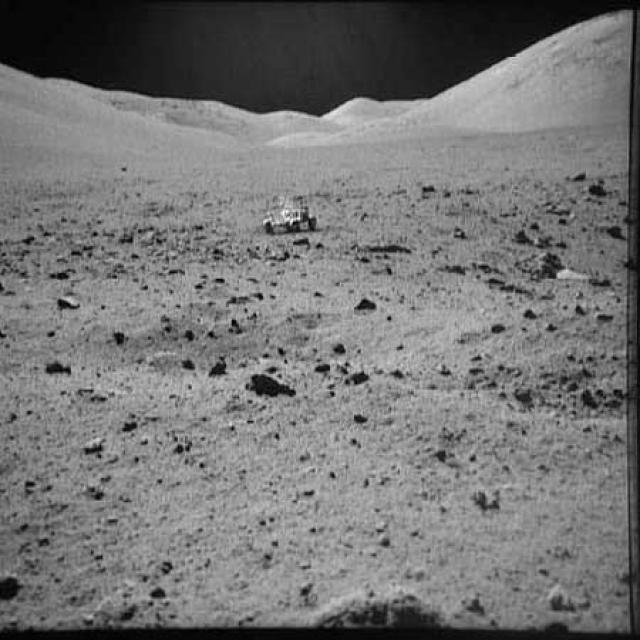artifact: (255, 190, 322, 238)
crater: (126, 309, 410, 378)
rock: (304, 578, 454, 639), (241, 368, 301, 401), (518, 243, 564, 285), (514, 216, 561, 246), (42, 348, 78, 382), (590, 216, 622, 248), (582, 175, 610, 203)
